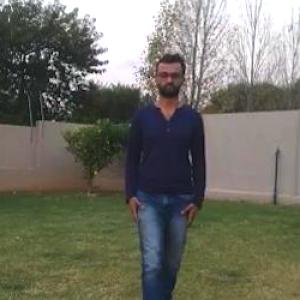follow: (127, 59, 197, 299)
